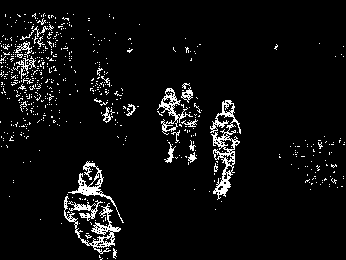person: (65, 156, 127, 260), (209, 97, 243, 201), (180, 83, 204, 167), (158, 86, 182, 169), (89, 66, 118, 123)
